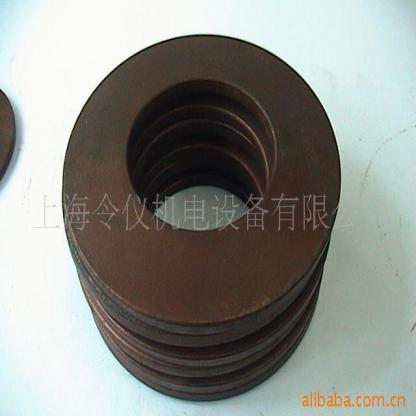FOD: (58, 28, 342, 406)
